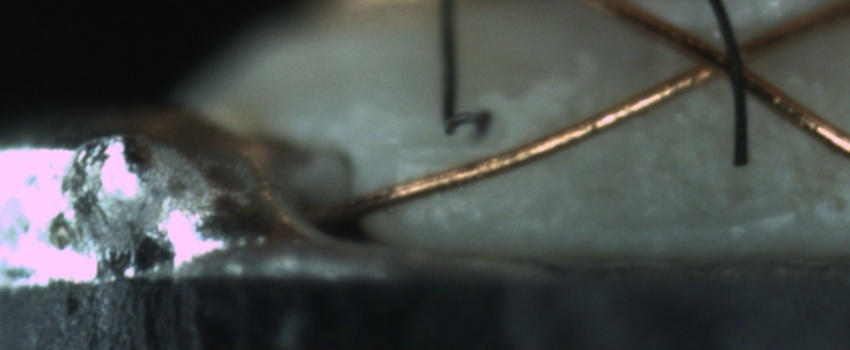CL: (667, 29, 758, 93)
DL: (391, 120, 518, 179)
